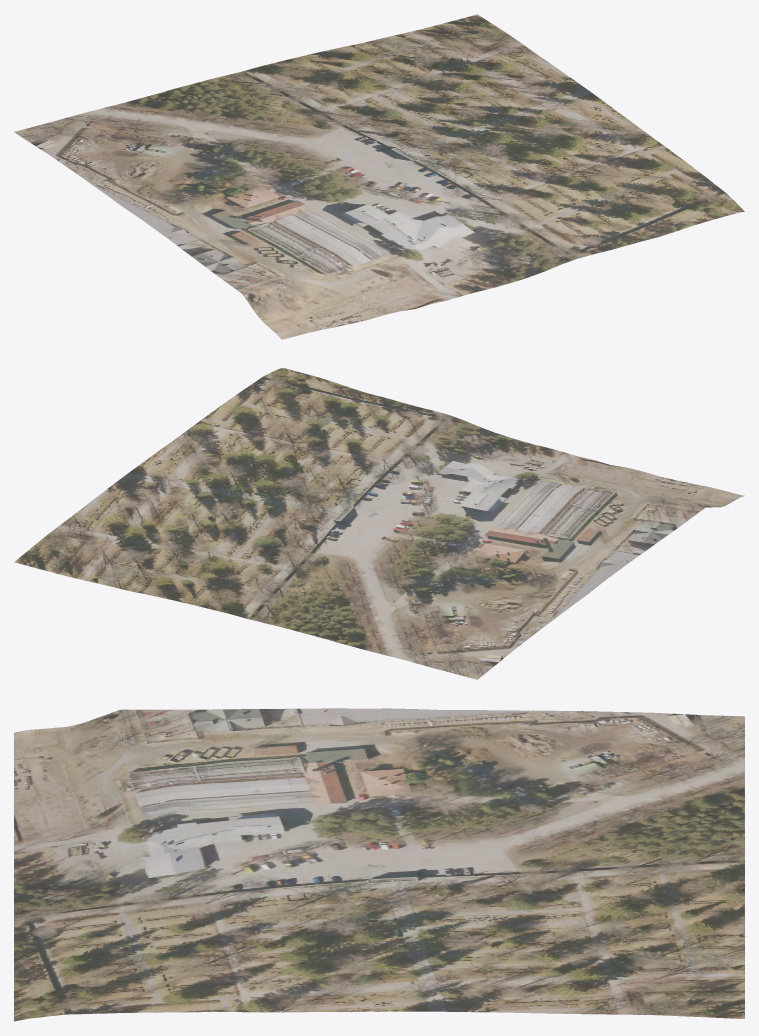
The model's file is CM_Terrain_24488615_6820408.fbx.
3 renders of one model, top to bottom at view 1: azimuth 30°, elevation 25°; view 2: azimuth 150°, elevation 25°; view 3: azimuth 270°, elevation 25°, orthographic. The views are drawn at different scales.
Visible parts, largest first — view 1: CM_Terrain_24488615_6820408_LOD0; view 2: CM_Terrain_24488615_6820408_LOD0; view 3: CM_Terrain_24488615_6820408_LOD0.
Part boxes in pixels (x1=…): CM_Terrain_24488615_6820408_LOD0: x1=14, y1=14, x2=744, y2=339; CM_Terrain_24488615_6820408_LOD0: x1=14, y1=368, x2=744, y2=679; CM_Terrain_24488615_6820408_LOD0: x1=14, y1=708, x2=744, y2=1021.
Size of what is drawn, in the model's own units: 205 by 10.07 by 205.
